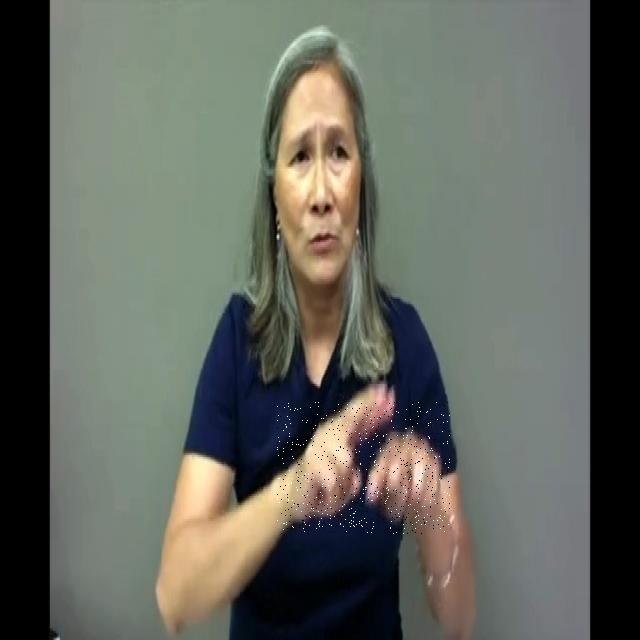salt: (277, 402, 450, 534)
